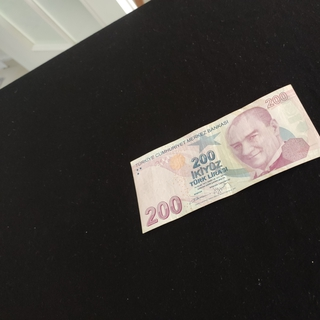200TLFront: (129, 84, 320, 234)
